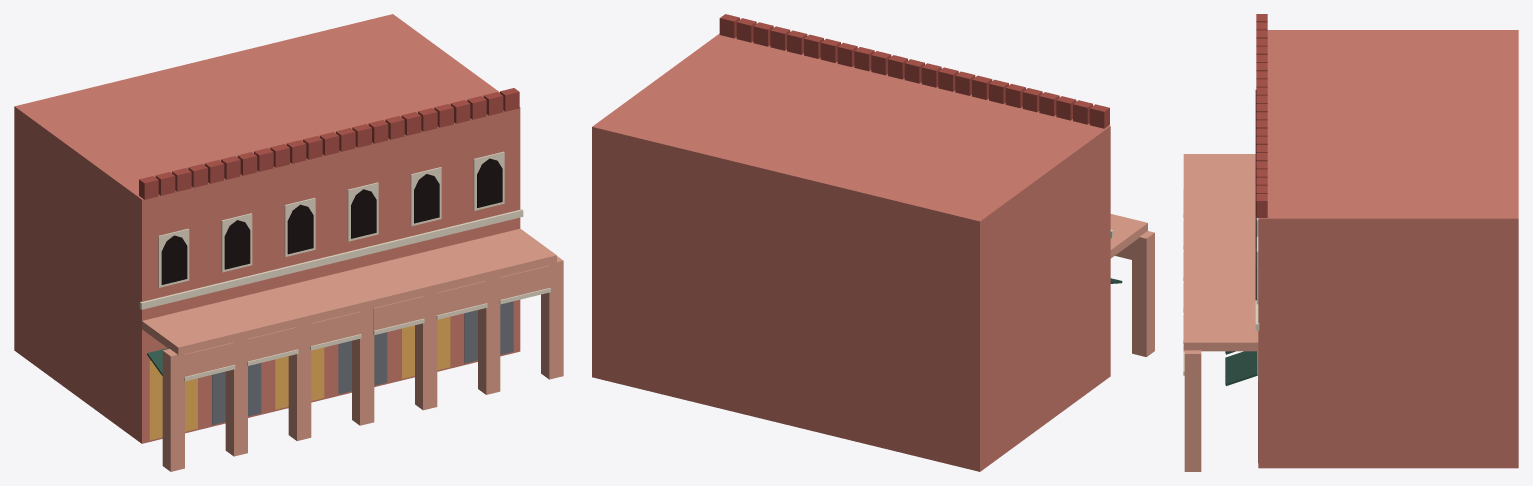
Rendered from bldg_arcade.glb.
The picture shows the model from 3 angles, left to right: view 1: azimuth 30°, elevation 25°; view 2: azimuth 150°, elevation 25°; view 3: azimuth 270°, elevation 25°; orthographic projection. The views are drawn at different scales.
Parts seen in each view (by area): view 1: bldg_arcade; view 2: bldg_arcade; view 3: bldg_arcade.
Boxes of the visible parts, box(x1,y1,x2,y2) form: bldg_arcade: box(14, 14, 563, 471); bldg_arcade: box(592, 14, 1154, 471); bldg_arcade: box(1183, 14, 1518, 471).
Bounding box in the file's own units: 12.45 × 7.9 × 9.02.
1 material, 1 textured.
